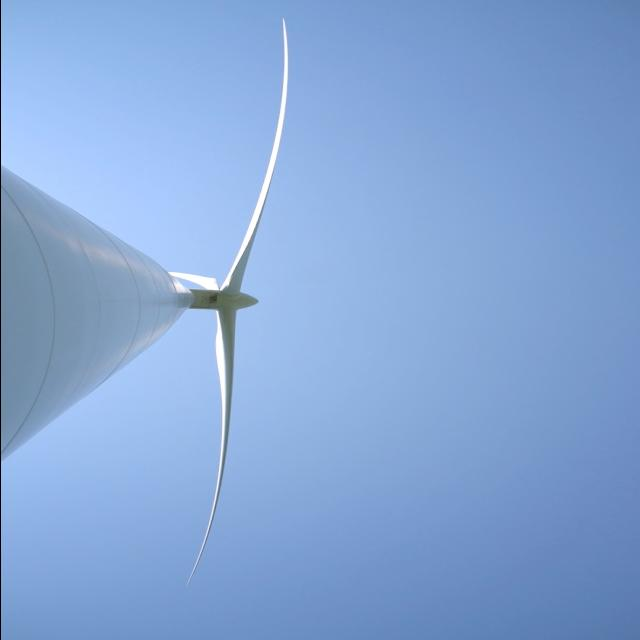blade 1: (164, 246, 224, 290)
blade 2: (244, 16, 303, 278)
blade 3: (175, 324, 253, 589)
